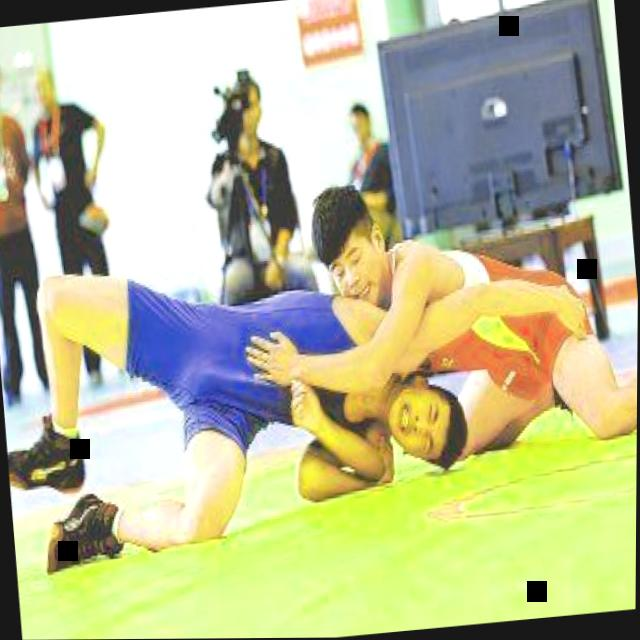Fall-Detected: (299, 157, 639, 496)
